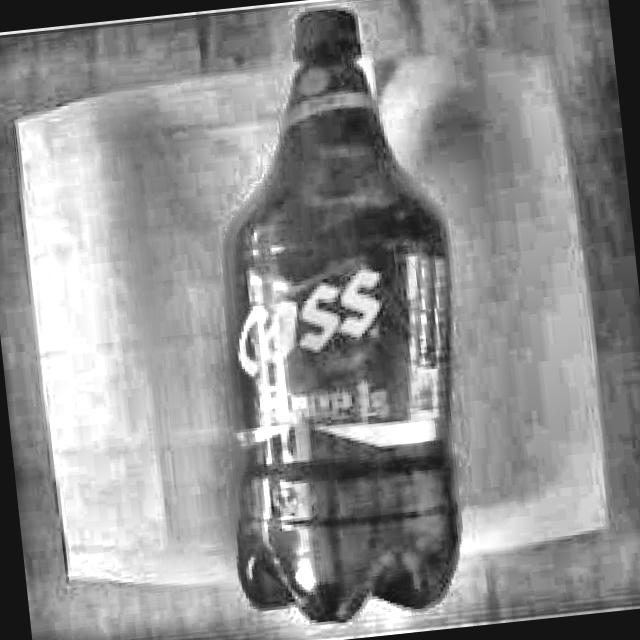plastic bottle: (224, 7, 459, 624)
